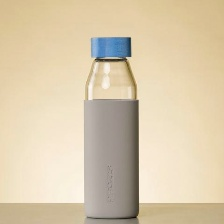bottle: (77, 32, 143, 221)
